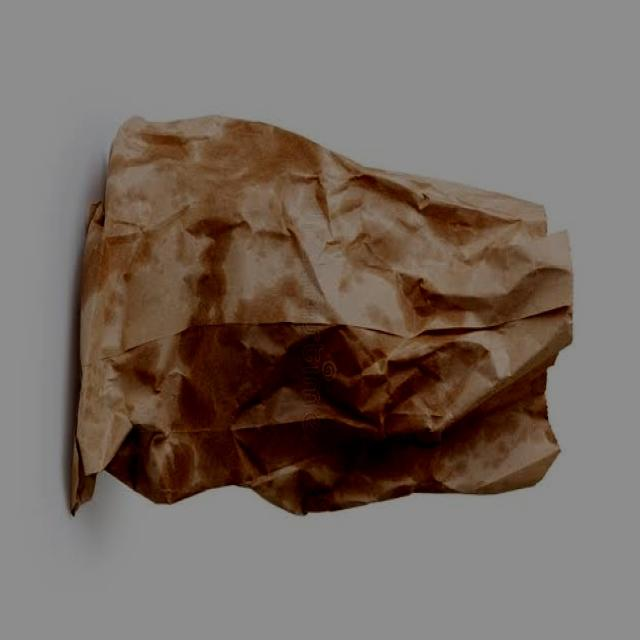paper: (62, 103, 578, 537)
